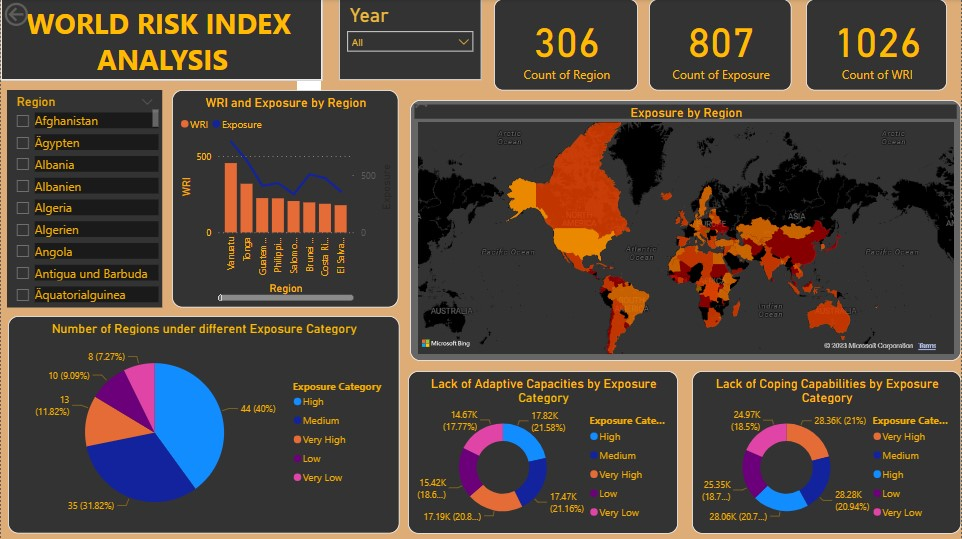

This screenshot's page, from the dashboard's own definition file:
{"tool":"powerbi","page":{"name":"Page 1","canvas":[1280,720],"ordinal":0},"visuals":[{"type":"textbox","box":[0,0,428.6,108.6],"z":0},{"type":"card","fields":{"Values":["Count(world_risk_index (2).WRI)"]},"box":[1073.3,0,188.3,121.7],"z":1000},{"type":"card","fields":{"Values":["Count(world_risk_index (2).Exposure)"]},"box":[863.3,0,190,121.7],"z":2000},{"type":"lineStackedColumnComboChart","fields":{"Y":["Sum(world_risk_index (2).WRI)"],"Y2":["Sum(world_risk_index (2).Exposure)"],"Category":["world_risk_index (2).Region","world_risk_index (2).Year"]},"box":[228.3,121.7,301.7,290],"z":3000},{"type":"card","fields":{"Values":["Count(world_risk_index (2).Region)"]},"box":[656.7,0,191.7,121.7],"z":4000},{"type":"filledMap","fields":{"Category":["world_risk_index (2).Region"]},"box":[545,135,735,348.3],"z":5000},{"type":"pieChart","title":"Number of Regions under different Exposure Category","fields":{"Y":["CountNonNull(world_risk_index (2).Region)"],"Category":["world_risk_index (2).Exposure Category"]},"box":[8.7,423.2,521.7,289.9],"z":6000},{"type":"donutChart","fields":{"Y":["Sum(world_risk_index (2). Lack of Adaptive Capacities)"],"Category":["world_risk_index (2).Exposure Category"]},"box":[542.9,495.7,360,217.1],"z":7000},{"type":"donutChart","fields":{"Category":["world_risk_index (2).Exposure Category"],"Y":["Sum(world_risk_index (2).Lack of Coping Capabilities)"]},"box":[921.4,495.7,358.6,217.1],"z":8000},{"type":"actionButton","box":[0,0,100,40.6],"z":9000},{"type":"slicer","fields":{"Values":["world_risk_index (2).Region"]},"box":[8.3,121.7,206.7,290],"z":10000},{"type":"slicer","fields":{"Values":["world_risk_index (2).Year"]},"box":[450,0,190,108.3],"z":11000}]}

Visuals, with their boxes in screenshot pixels (x1, y1, x2, y2), scaled from the page's 1280x720 canvas onto the 962x539 screenshot:
textbox: {"left": 0, "top": 0, "right": 322, "bottom": 81}
card - Count(world_risk_index (2).WRI): {"left": 807, "top": 0, "right": 948, "bottom": 91}
card - Count(world_risk_index (2).Exposure): {"left": 649, "top": 0, "right": 792, "bottom": 91}
lineStackedColumnComboChart - Sum(world_risk_index (2).WRI) x Sum(world_risk_index (2).Exposure): {"left": 172, "top": 91, "right": 398, "bottom": 308}
card - Count(world_risk_index (2).Region): {"left": 494, "top": 0, "right": 638, "bottom": 91}
filledMap - world_risk_index (2).Region: {"left": 410, "top": 101, "right": 961, "bottom": 362}
"Number of Regions under different Exposure Category" pieChart: {"left": 7, "top": 317, "right": 399, "bottom": 534}
donutChart - Sum(world_risk_index (2). Lack of Adaptive Capacities) x world_risk_index (2).Exposure Category: {"left": 408, "top": 371, "right": 679, "bottom": 534}
donutChart - world_risk_index (2).Exposure Category x Sum(world_risk_index (2).Lack of Coping Capabilities): {"left": 692, "top": 371, "right": 961, "bottom": 534}
actionButton: {"left": 0, "top": 0, "right": 75, "bottom": 30}
slicer - world_risk_index (2).Region: {"left": 6, "top": 91, "right": 162, "bottom": 308}
slicer - world_risk_index (2).Year: {"left": 338, "top": 0, "right": 481, "bottom": 81}
